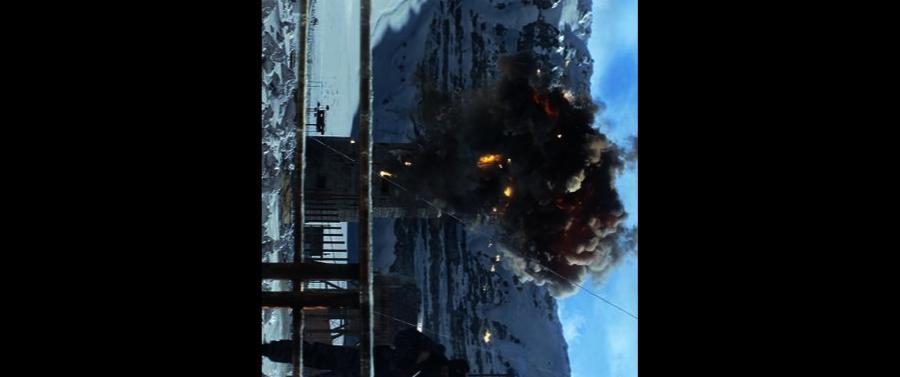gun: (370, 344, 432, 377)
